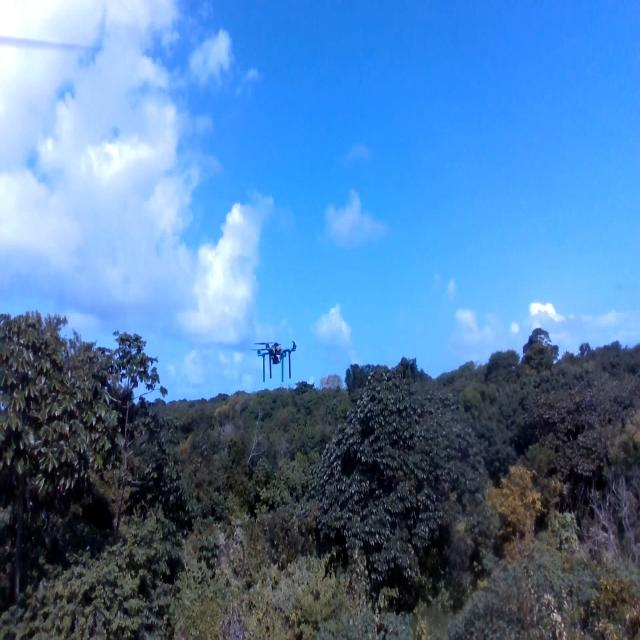-uav-: (247, 333, 304, 388)
